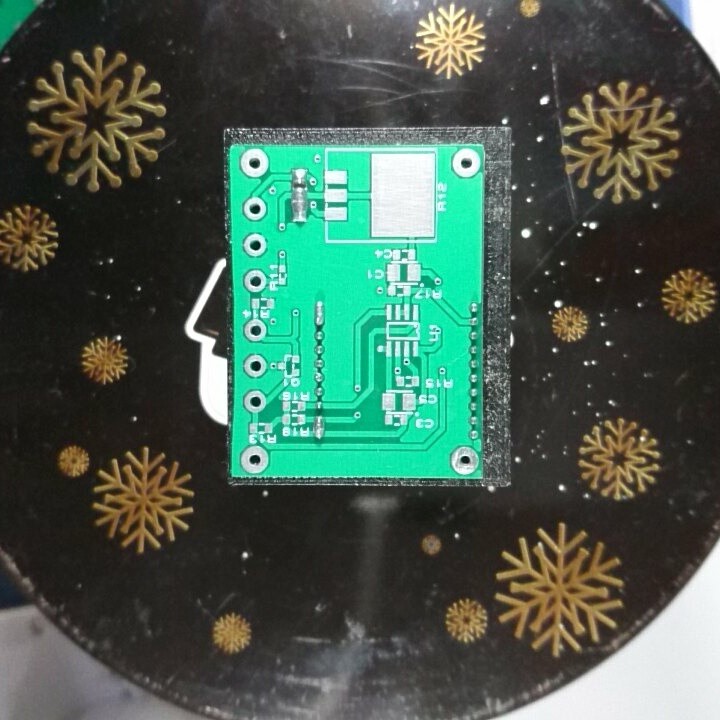F: (237, 147, 272, 180), (237, 444, 271, 476), (451, 146, 482, 180), (448, 443, 478, 478), (239, 229, 270, 258), (241, 353, 269, 380), (242, 267, 270, 294), (241, 195, 269, 222), (242, 317, 270, 343), (242, 388, 268, 414)
P: (290, 185, 310, 226), (313, 298, 327, 328), (311, 413, 325, 443)
